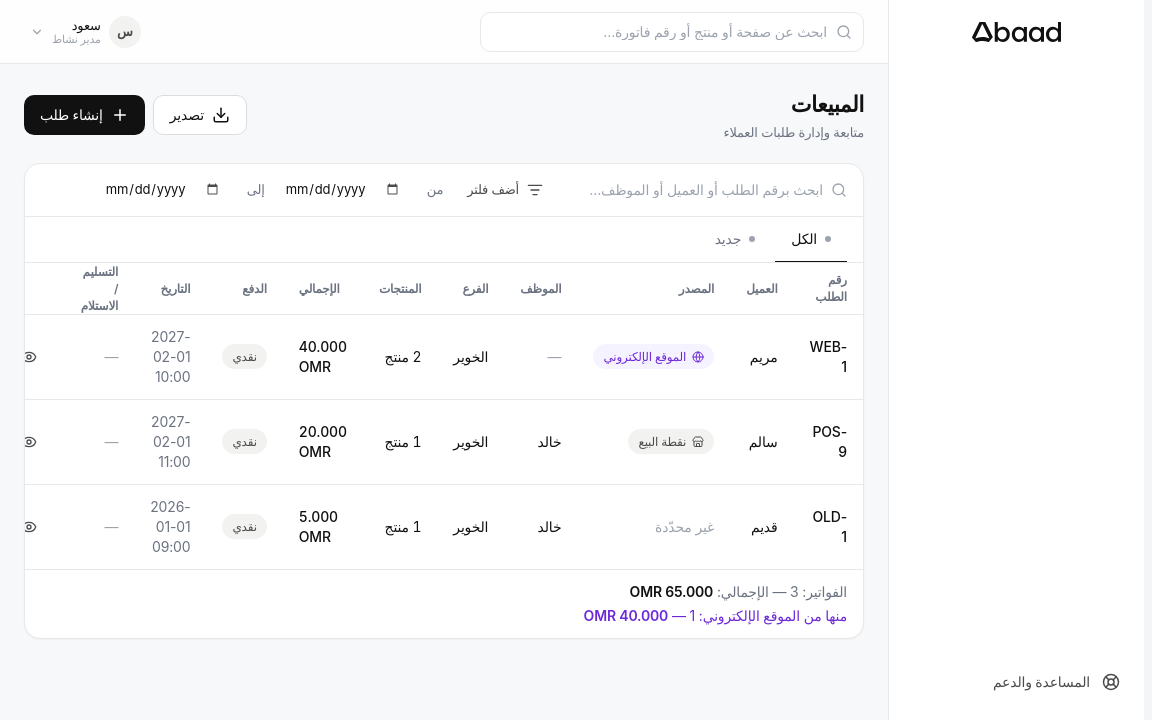
Test: قائمةُ المبيعات والمصدر › وتعرض القنواتِ خيارًا حين لا يُرشَّح بها بعد
Click the button "أضف فلتر" at (505, 190), box [455,174,555,206]
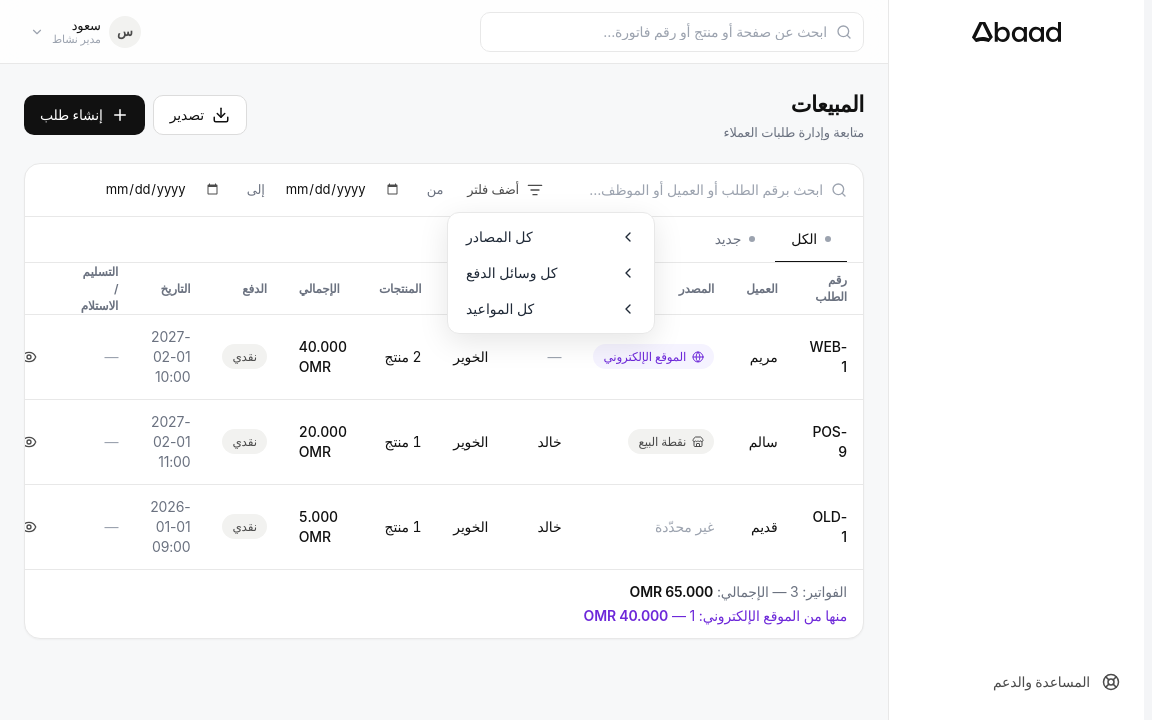
Result: the menu item "كل المصادر" is shown at [466,227,636,246]
